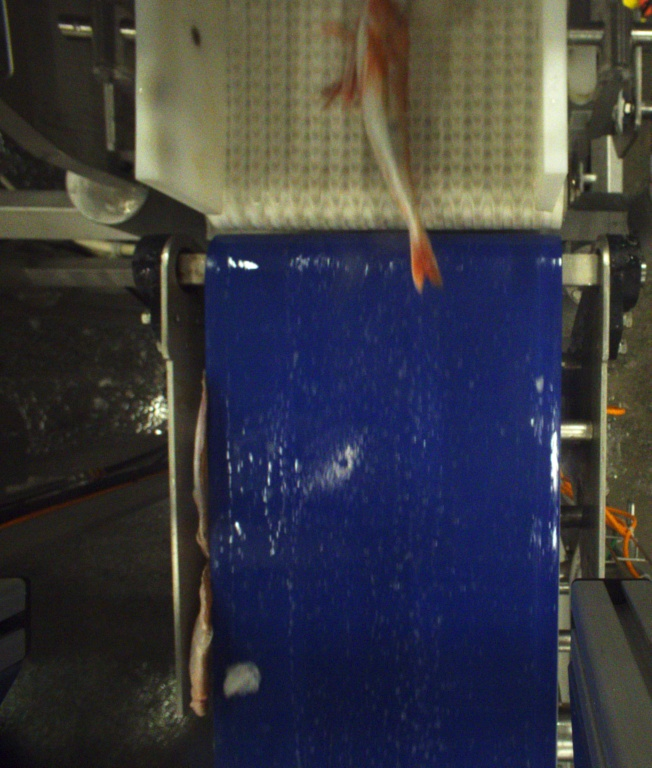GUU: (315, 0, 444, 292)
